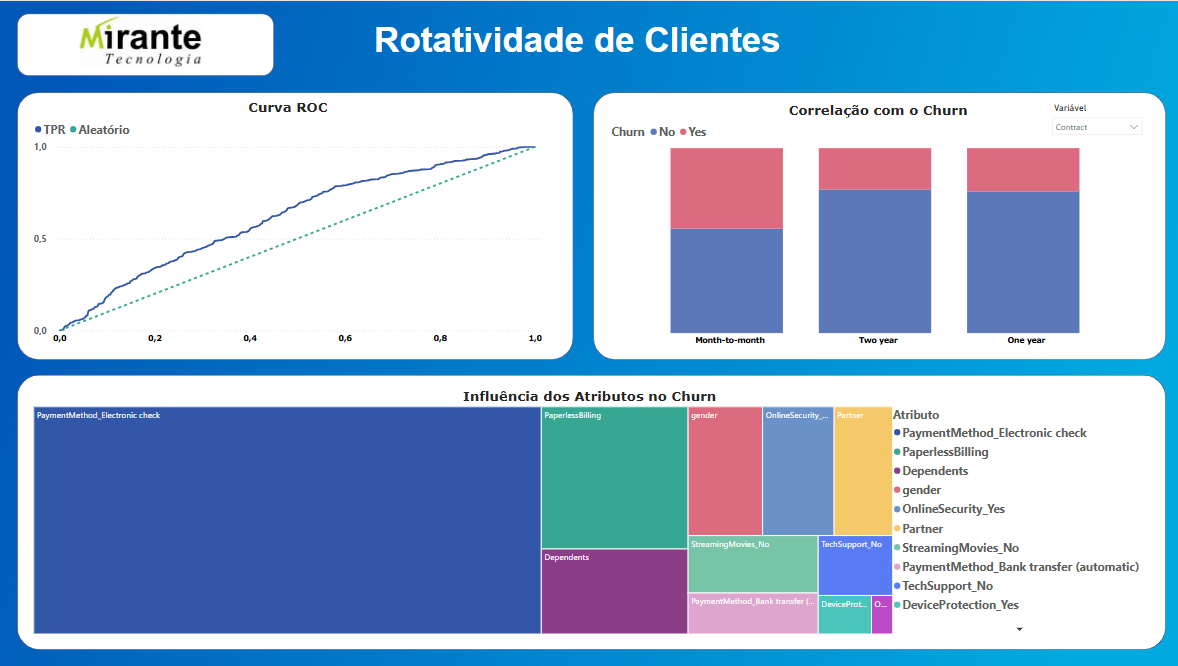

The page's visual inventory and layout, read from the dashboard file:
{"tool":"powerbi","page":{"name":"Service Factor","canvas":[1920,1080],"ordinal":0},"visuals":[{"type":"shape","box":[970,146,916,428],"z":0},{"type":"hundredPercentStackedColumnChart","title":"Curva ROC","fields":{"Category":["telco_customer_churn.Contract"],"Y":["CountNonNull(telco_customer_churn.Churn)"],"Series":["telco_customer_churn.Churn"]},"box":[994,160,864,400],"z":1000},{"type":"textbox","box":[614,26,676,80],"z":2000},{"type":"shape","box":[48,146,890,428],"z":3000},{"type":"lineChart","title":"Curva ROC","fields":{"Y":["Max(roc_curve_regression.TPR)"],"Category":["roc_curve_regression.FPR"],"Y2":["Max(roc_curve_regression.FPR)"]},"box":[70.2,156.3,822.9,400],"z":4000},{"type":"shape","box":[48.8,20,411.2,100],"z":5000},{"type":"image","box":[58,20,376,90],"z":6000},{"type":"slicer","fields":{"Values":["Parâmetro.Parâmetro"]},"box":[1694,158,164,66],"z":7000},{"type":"shape","box":[48,598,1838,440],"z":8000},{"type":"treemap","title":"Influência dos Atributos no Churn","fields":{"Group":["logistic_regression.Atributo"],"Values":["Sum(logistic_regression.Coeficiente)"]},"box":[70,618,1788,400],"z":9000}]}

Visuals, with their boxes in screenshot pixels (x1, y1, x2, y2), scaled from the page's 1920x1080 canvas onto the 1178x666 screenshot:
shape: detection(595, 90, 1157, 354)
"Curva ROC" hundredPercentStackedColumnChart: detection(610, 99, 1140, 345)
textbox: detection(377, 16, 791, 65)
shape: detection(29, 90, 576, 354)
"Curva ROC" lineChart: detection(43, 96, 548, 343)
shape: detection(30, 12, 282, 74)
image: detection(36, 12, 266, 68)
slicer - Parâmetro.Parâmetro: detection(1039, 97, 1140, 138)
shape: detection(29, 369, 1157, 640)
"Influência dos Atributos no Churn" treemap: detection(43, 381, 1140, 628)
